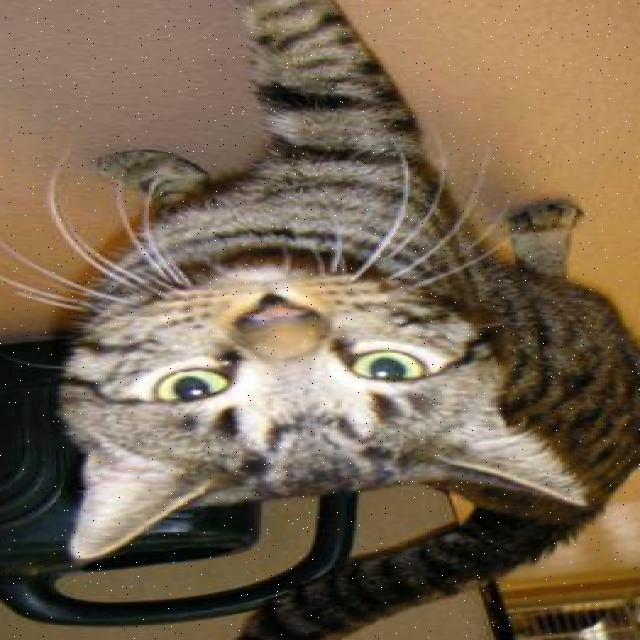Cat: (48, 236, 590, 555)
